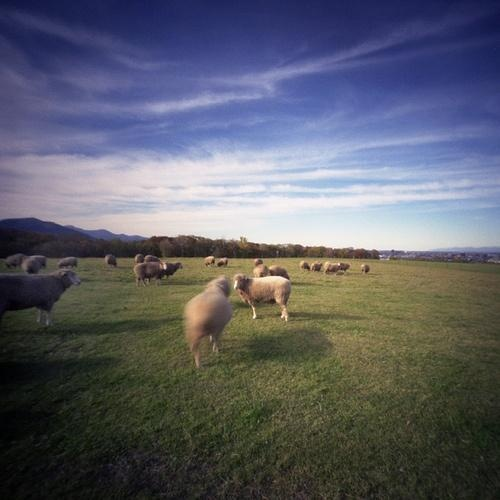sheep: (180, 275, 235, 365), (1, 270, 82, 329), (236, 275, 294, 326), (132, 261, 167, 287), (56, 254, 82, 275), (165, 260, 183, 281), (8, 254, 25, 271), (297, 259, 312, 274), (324, 262, 342, 274), (255, 264, 270, 278), (23, 263, 42, 274), (104, 252, 116, 269), (30, 256, 45, 269), (361, 264, 376, 276), (270, 266, 287, 276), (312, 260, 323, 274), (203, 256, 215, 267), (338, 262, 351, 272), (217, 259, 231, 266)
